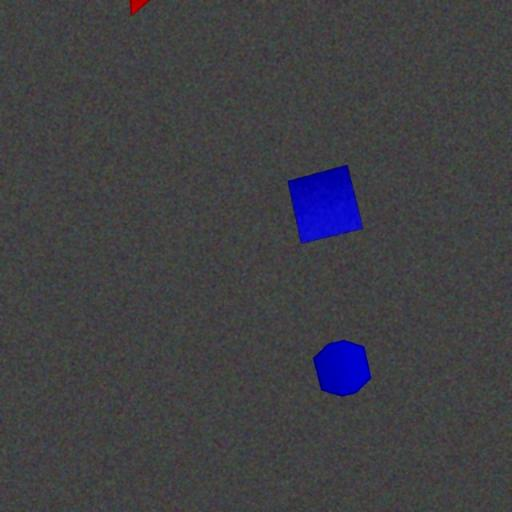BLUE_SQUARE: (286, 164, 364, 244)
